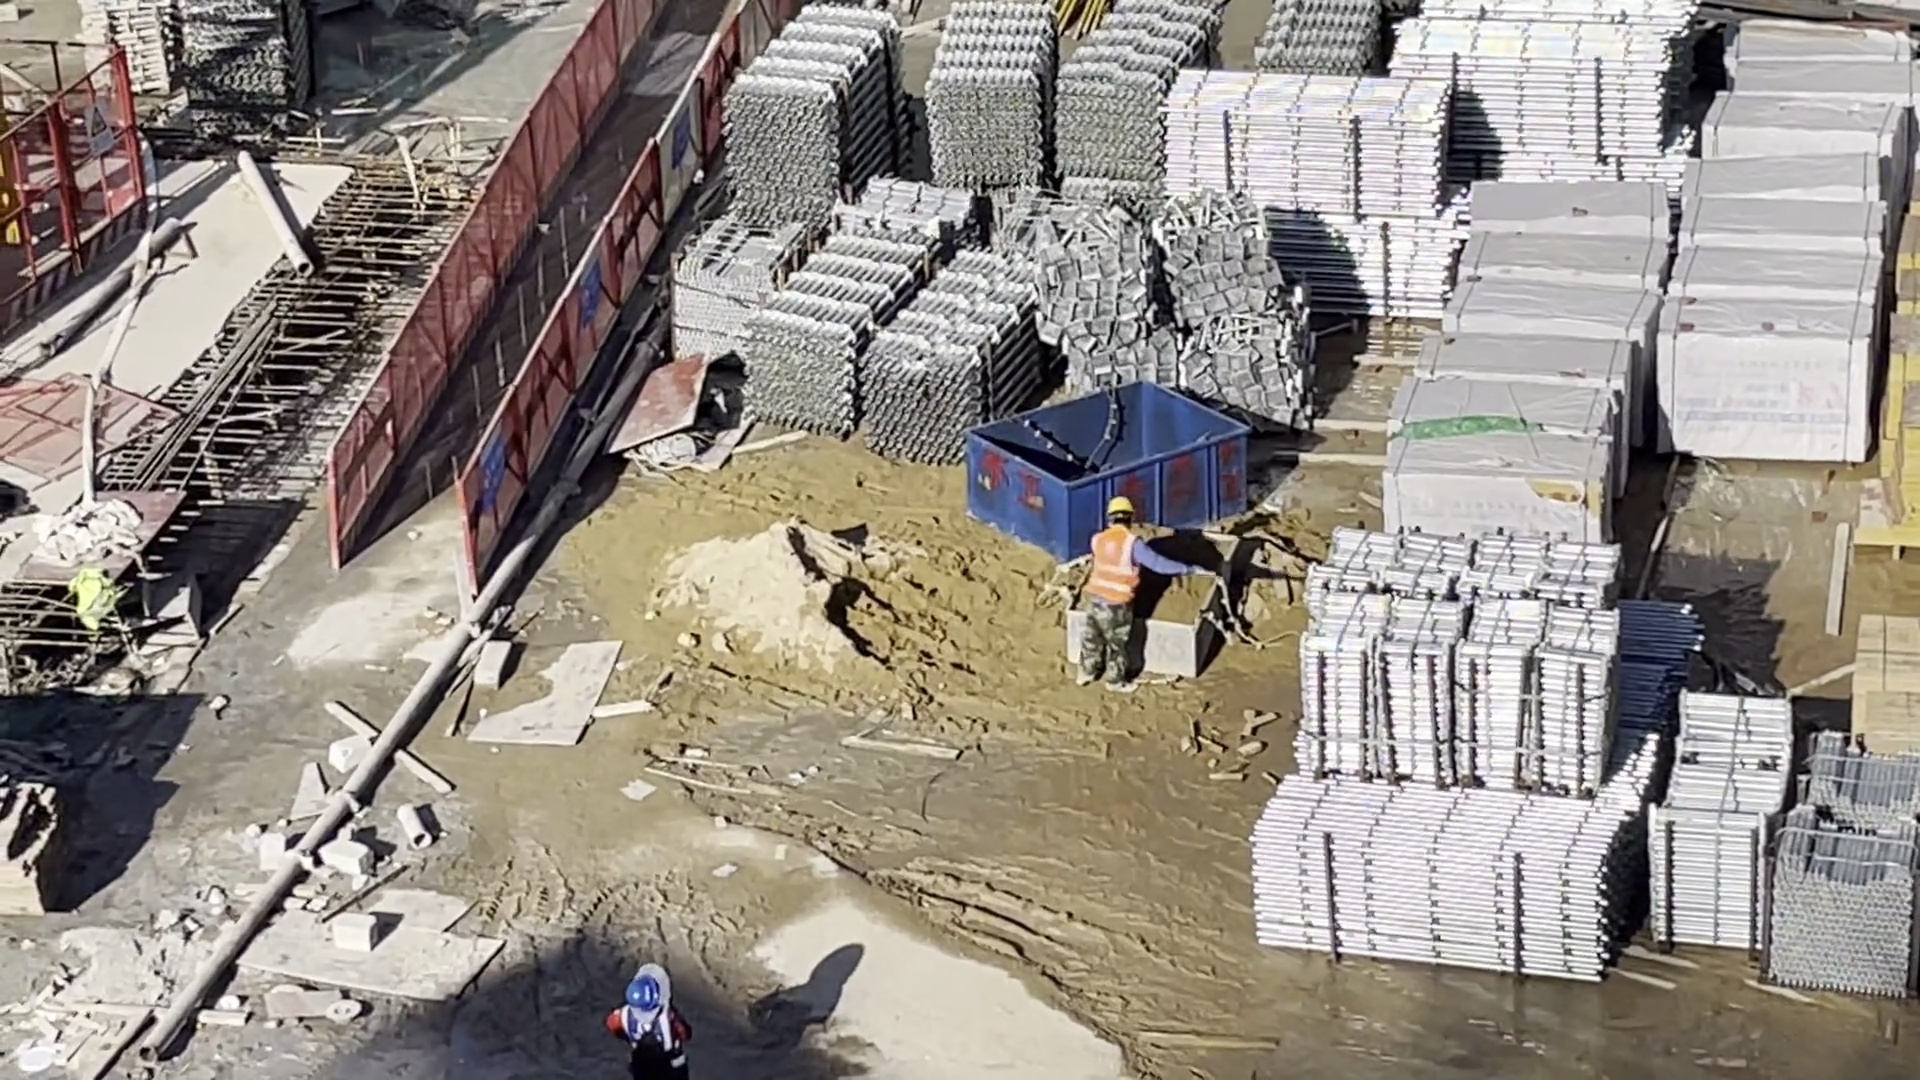board: (1885, 173, 1920, 548), (1858, 616, 1920, 729)
fence: (332, 3, 763, 565)
helmet: (623, 977, 664, 1013), (1104, 497, 1133, 517)
hopper: (966, 381, 1247, 539), (1138, 529, 1243, 681)
person: (1088, 499, 1159, 704), (602, 968, 700, 1079)
scaffold: (1298, 516, 1616, 796), (1252, 768, 1638, 983), (1162, 68, 1451, 318), (755, 235, 1043, 468), (925, 1, 1224, 195), (1390, 12, 1673, 160), (1763, 730, 1920, 991), (728, 11, 906, 219), (1652, 689, 1777, 949), (184, 1, 313, 133), (1250, 1, 1386, 84), (78, 1, 182, 95)
slogan: (477, 427, 504, 510), (578, 249, 600, 327)
vest: (1092, 530, 1142, 606), (624, 1011, 670, 1042)
